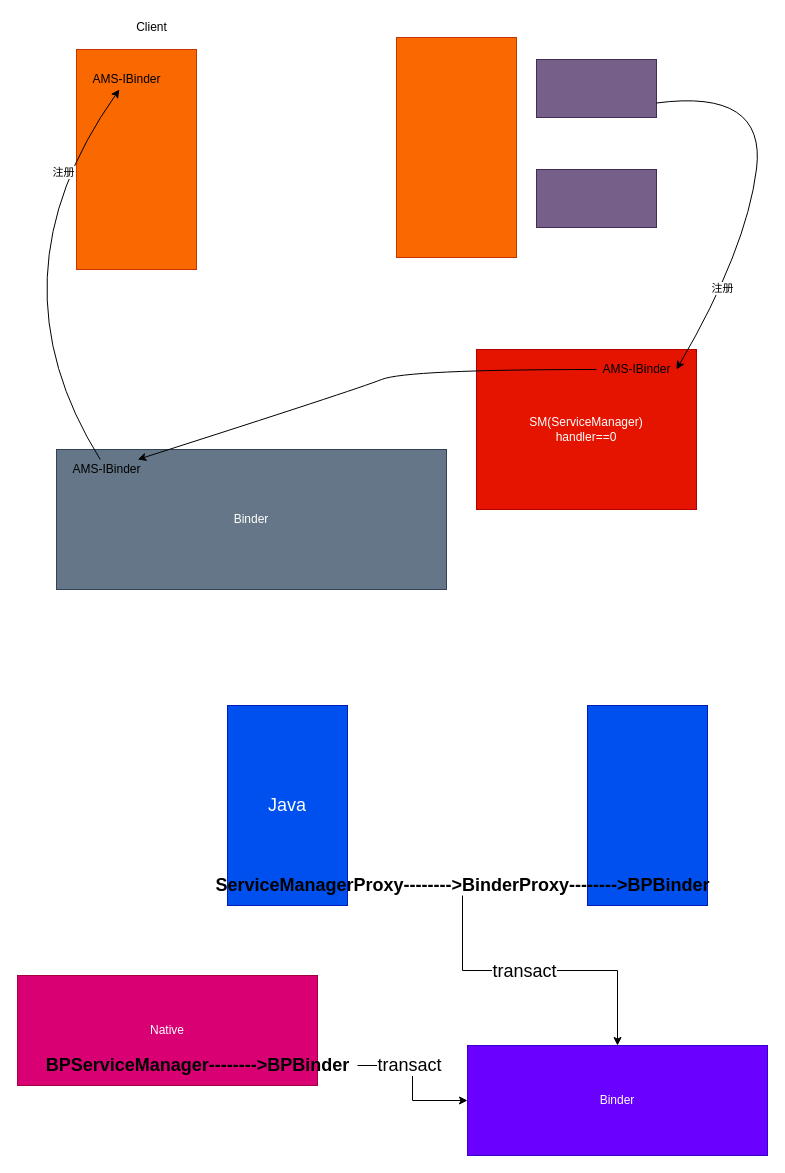
This 785x1173 diagram has some shape labels left out. Each missing label, with the centre of its shape:
"AMS" goes at point 596,88.
"PMS" goes at point 596,198.
